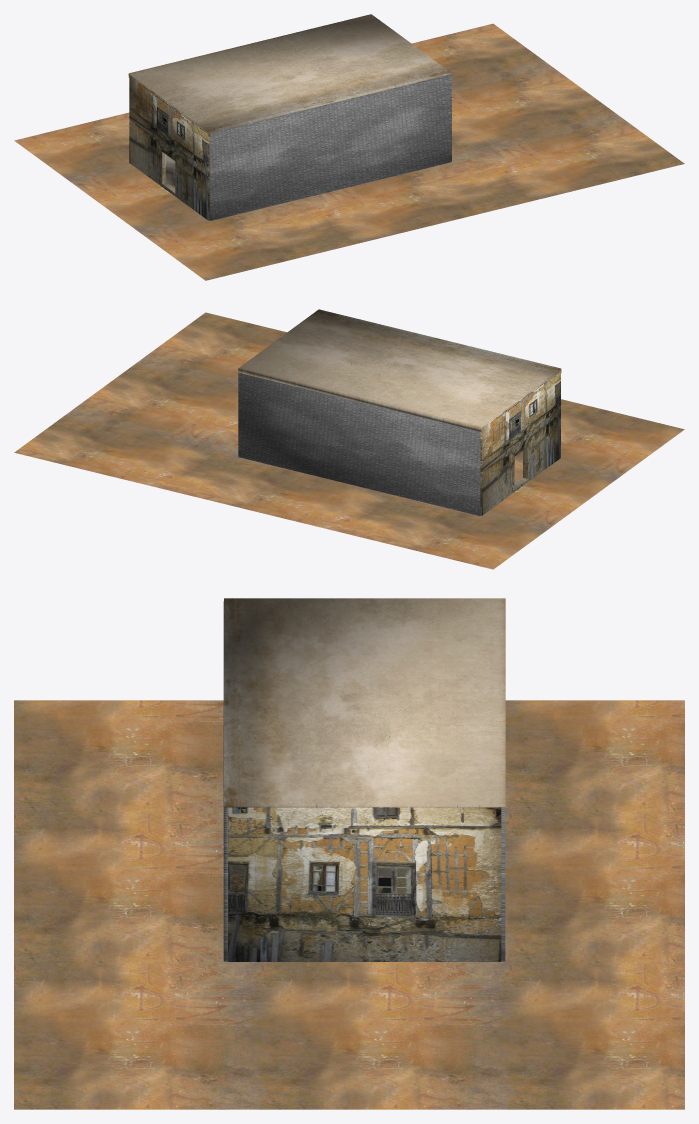
The model's file is EdificiColisions.obj.
The picture shows the model from 3 angles, top to bottom: view 1: azimuth 30°, elevation 25°; view 2: azimuth 150°, elevation 25°; view 3: azimuth 270°, elevation 25°; orthographic projection. The views are drawn at different scales.
Visible parts, largest first — view 1: Suelo, Lateral, techo, Frontal; view 2: Suelo, Lateral1, techo, Frontal; view 3: Suelo, techo, Trasero, Lateral, Lateral1.
Boxes of the visible parts, x1,y1,x2,y2 form: Suelo: (14, 23, 684, 280); Lateral: (209, 74, 451, 220); techo: (128, 14, 451, 136); Frontal: (129, 75, 209, 220); Suelo: (14, 312, 684, 569); Lateral1: (238, 372, 480, 515); techo: (238, 309, 561, 431); Frontal: (480, 370, 560, 515); Suelo: (14, 700, 684, 1109); techo: (224, 598, 505, 812); Trasero: (228, 807, 501, 961); Lateral: (223, 601, 227, 961); Lateral1: (501, 807, 505, 961).
Bounding box in the file's own units: 8830 × 1583 × 6115.
